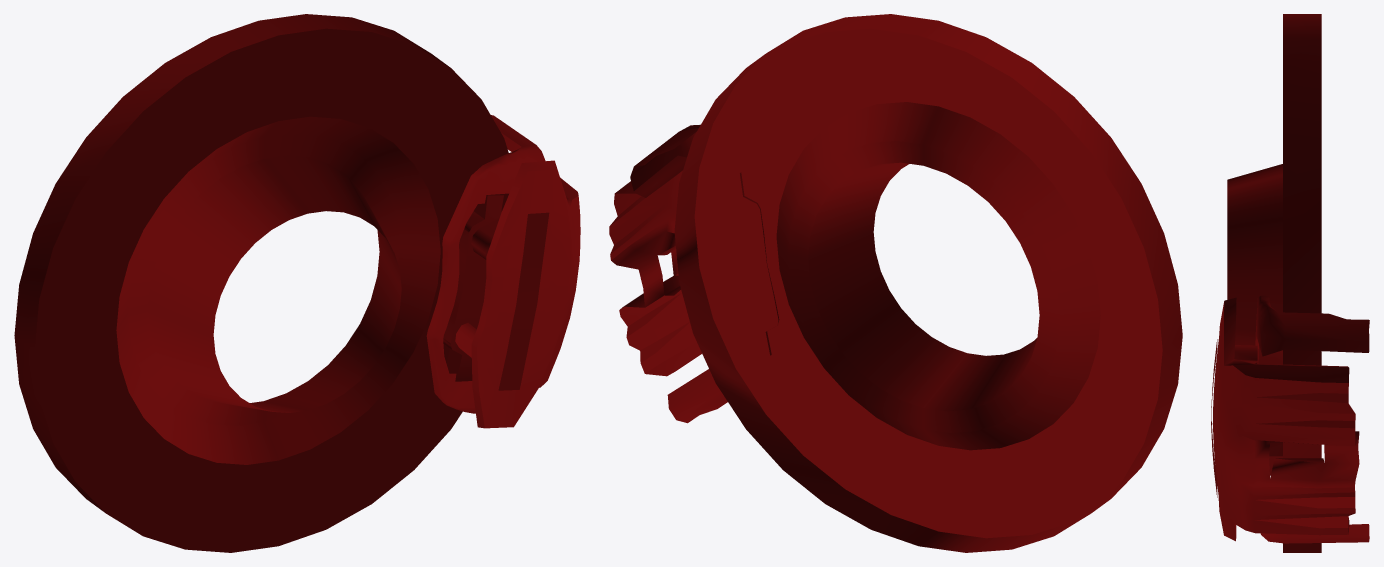
The model's file is Palladium_Brakes_Perf_R.glb.
The picture shows the model from 3 angles, left to right: view 1: azimuth 30°, elevation 25°; view 2: azimuth 150°, elevation 25°; view 3: azimuth 270°, elevation 25°; orthographic projection. The views are drawn at different scales.
Visible parts, largest first — view 1: Rotor_Perf_R2, Caliper_Perf_R2; view 2: Rotor_Perf_R2, Caliper_Perf_R2; view 3: Caliper_Perf_R2, Rotor_Perf_R2.
Part boxes in pixels (x1,y1,x2,y2): Rotor_Perf_R2: [14, 14, 508, 552]; Caliper_Perf_R2: [426, 115, 580, 428]; Rotor_Perf_R2: [674, 14, 1182, 552]; Caliper_Perf_R2: [609, 124, 779, 423]; Caliper_Perf_R2: [1211, 295, 1369, 543]; Rotor_Perf_R2: [1227, 14, 1321, 552].
Bounding box in the file's own units: 0.404 × 0.3681 × 0.1083.
